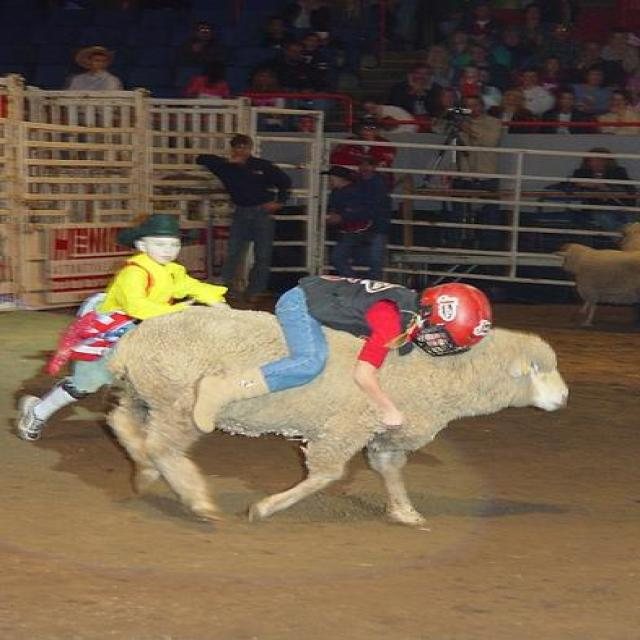Sheep: (106, 305, 575, 531), (556, 245, 638, 328)
